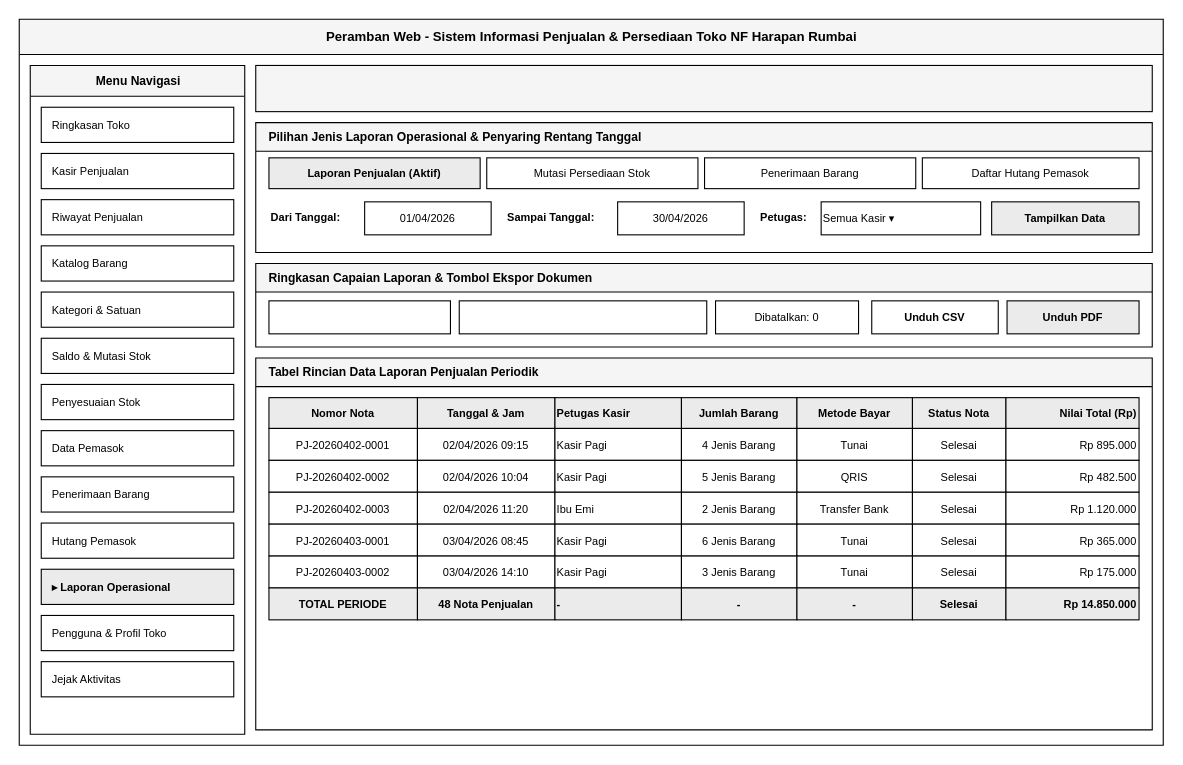
Image size: 1183x765. Some labels were removed from this diagram. Each missing label, with the centre of its shape:
"Halaman Laporan Operasional & Pengunduhan Dokumen (CSV / PDF)" belongs at (x=703, y=88).
"Total Nota: 48 Transaksi" belongs at (x=359, y=317).
"Total Penjualan: Rp 14.850.000" belongs at (x=582, y=317).
